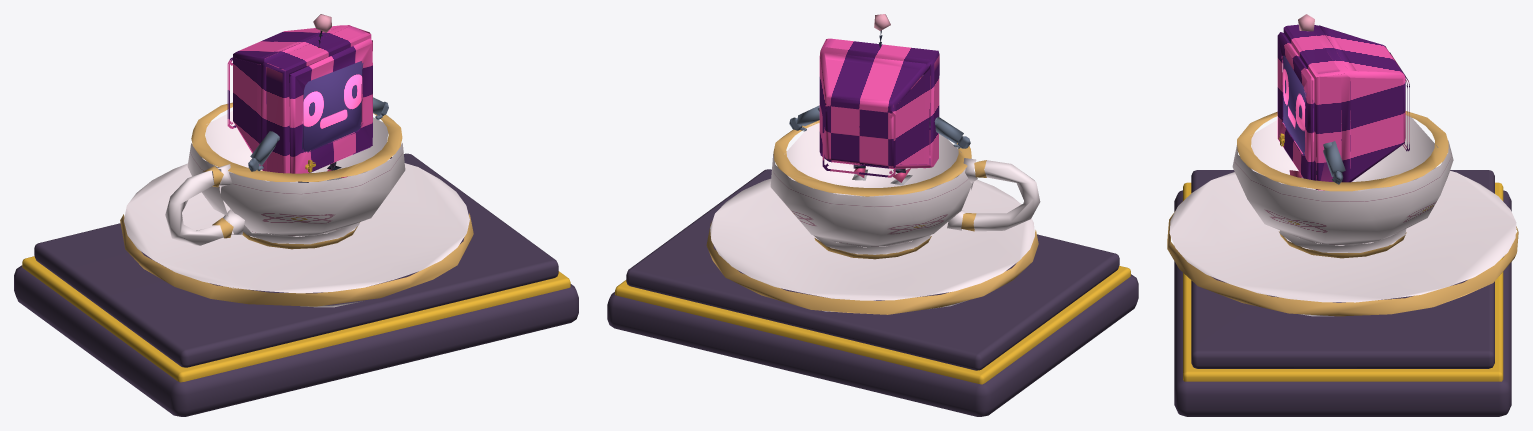
Rendered from kart.paint.pink-checker.lod1.glb.
The picture shows the model from 3 angles, left to right: view 1: azimuth 30°, elevation 25°; view 2: azimuth 150°, elevation 25°; view 3: azimuth 270°, elevation 25°; orthographic projection. The views are drawn at different scales.
Visible parts, largest first — view 1: emi_teacup_mesh, stand_display_top, stand_display_base, stand_brass_band; view 2: emi_teacup_mesh, stand_display_top, stand_display_base, stand_brass_band; view 3: emi_teacup_mesh, stand_display_top, stand_display_base, stand_brass_band.
Part boxes in pixels (x1,y1,x2,y2): emi_teacup_mesh: (120,14,473,307); stand_display_top: (34,153,558,367); stand_display_base: (14,265,578,416); stand_brass_band: (22,256,570,382); emi_teacup_mesh: (706,14,1040,314); stand_display_top: (626,169,1119,370); stand_display_base: (607,274,1138,416); stand_brass_band: (615,266,1130,384); emi_teacup_mesh: (1167,14,1518,316); stand_display_top: (1191,170,1494,368); stand_display_base: (1174,190,1511,416); stand_brass_band: (1183,182,1503,381).
Size of the model in its own units: 0.64 by 0.4654 by 0.4763.
4 materials, 3 textured.
